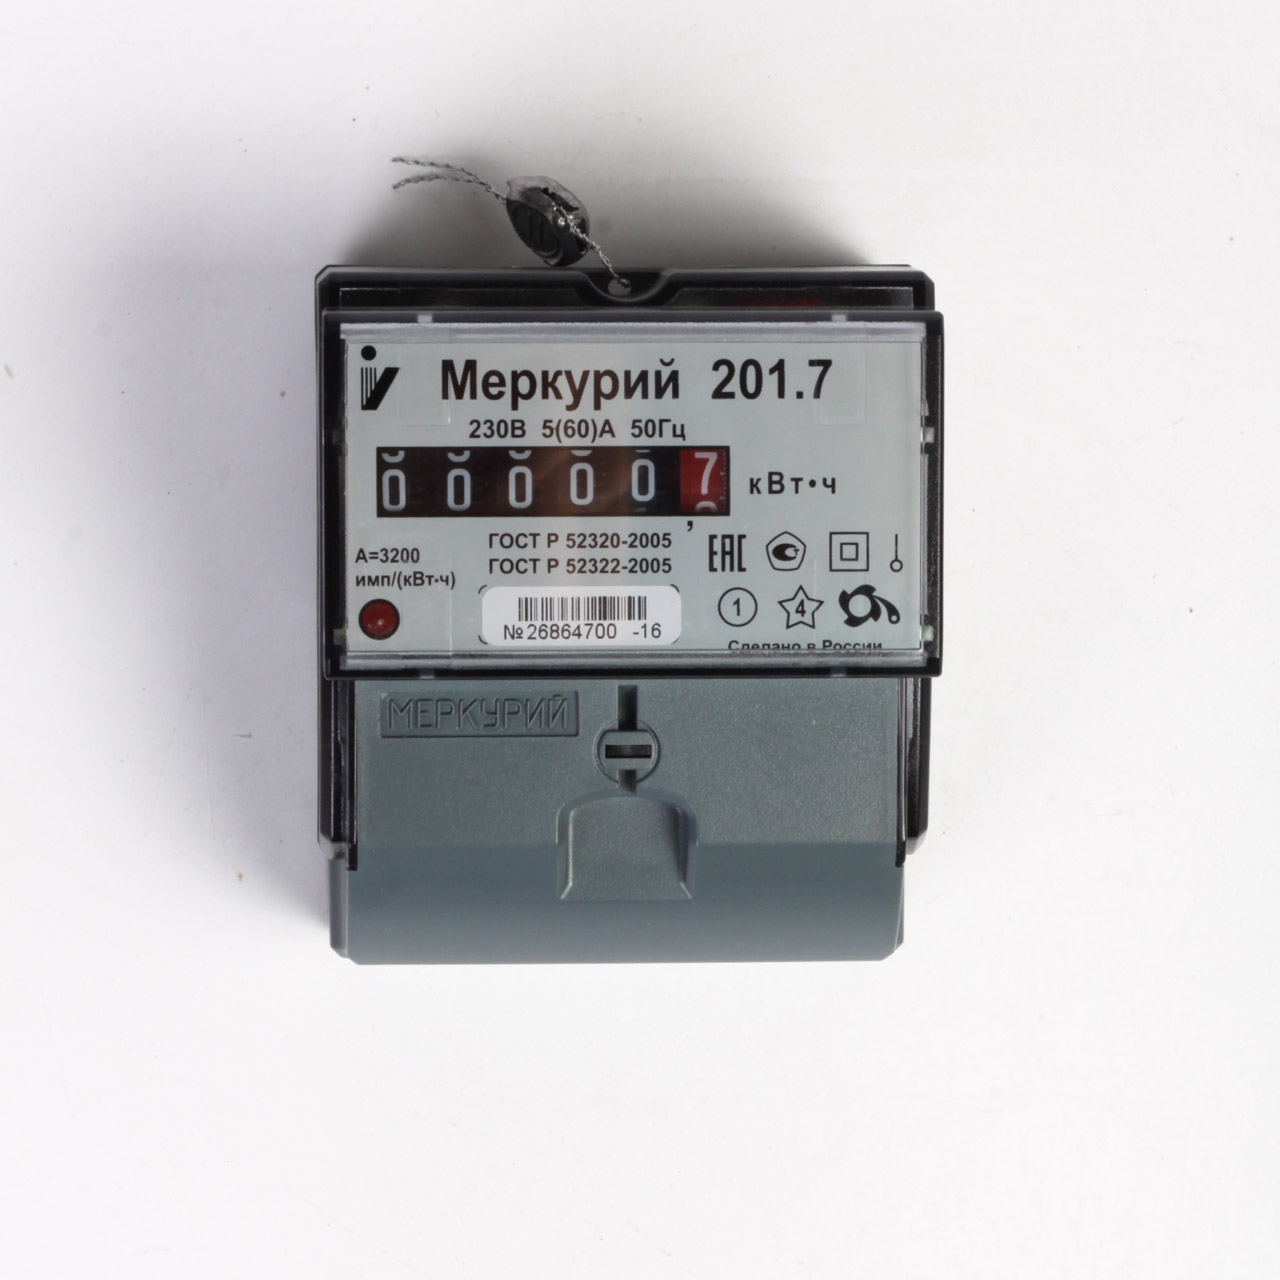counter: (300, 244, 956, 976)
counter_screen: (368, 440, 738, 527)
